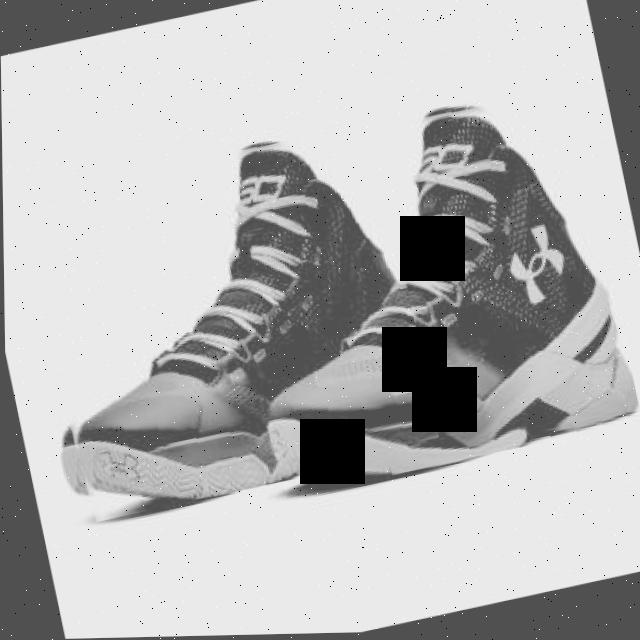shoe: (197, 78, 640, 504), (5, 115, 440, 528)
